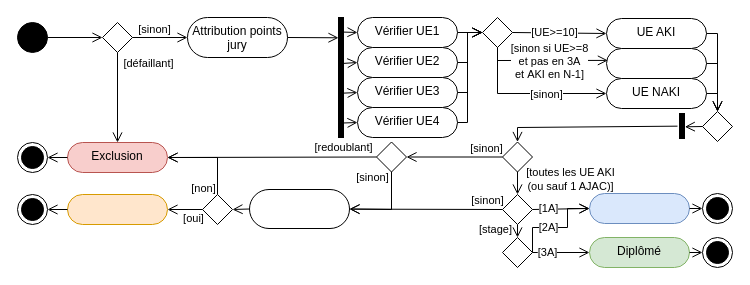
Some shapes in this 750 by 285 pixel diagram are drawn without their labels. The shapes that lost their labels are listed below. From the top down, each one's box as (x1, y1, x2, y2) in pixels, then its label:
(606, 48, 706, 78): UE AJAC
(66, 194, 168, 224): Redoublement
(248, 188, 350, 228): Décision jury Redoublement
(588, 192, 690, 224): Passage
